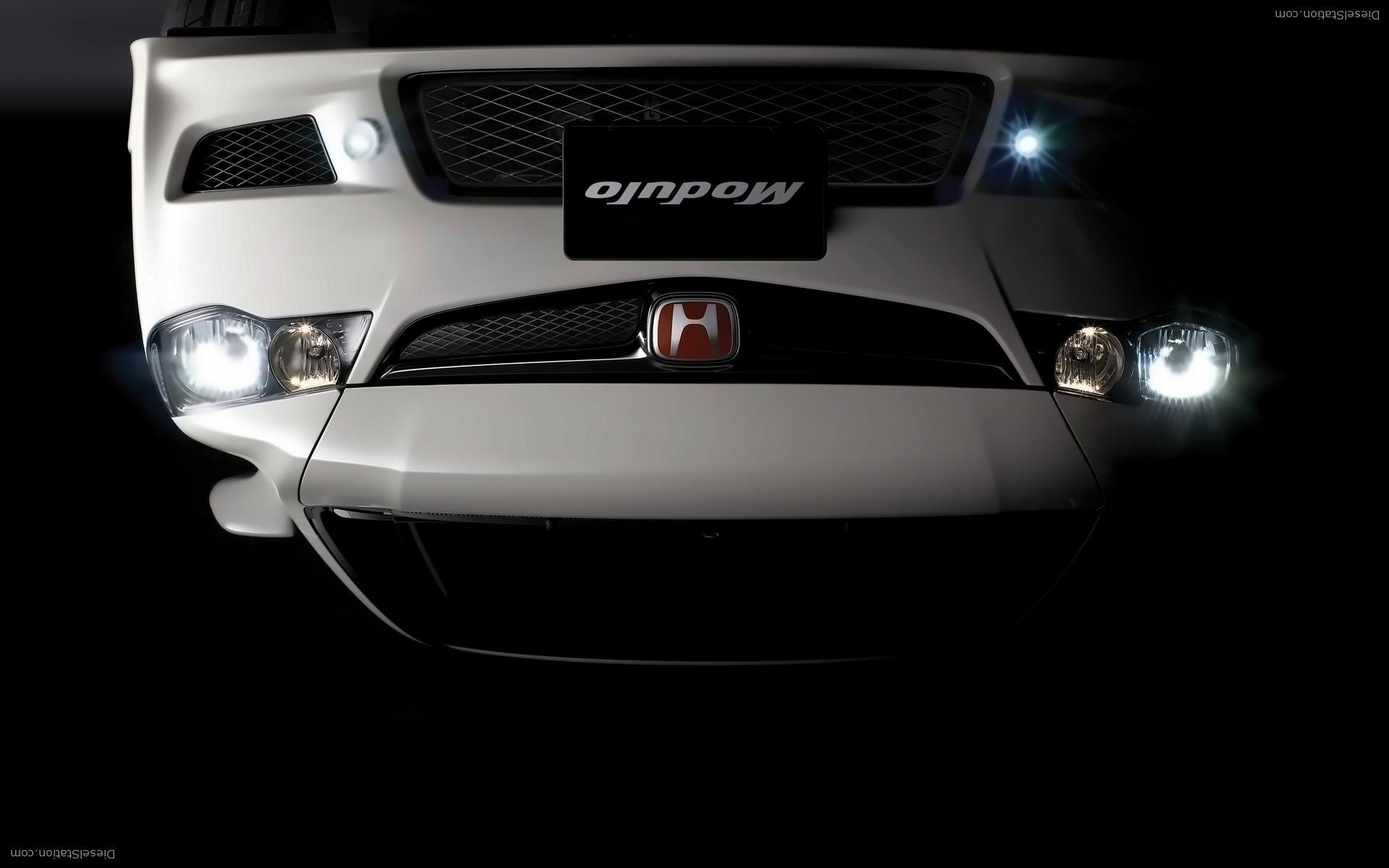Car hood: (170, 377, 1258, 528)
Front bumper: (120, 20, 1264, 306)
Headlight - -L-: (132, 292, 381, 426)
Headlight - -R-: (1004, 293, 1266, 428)
Side mirror - -L-: (197, 456, 310, 549)
